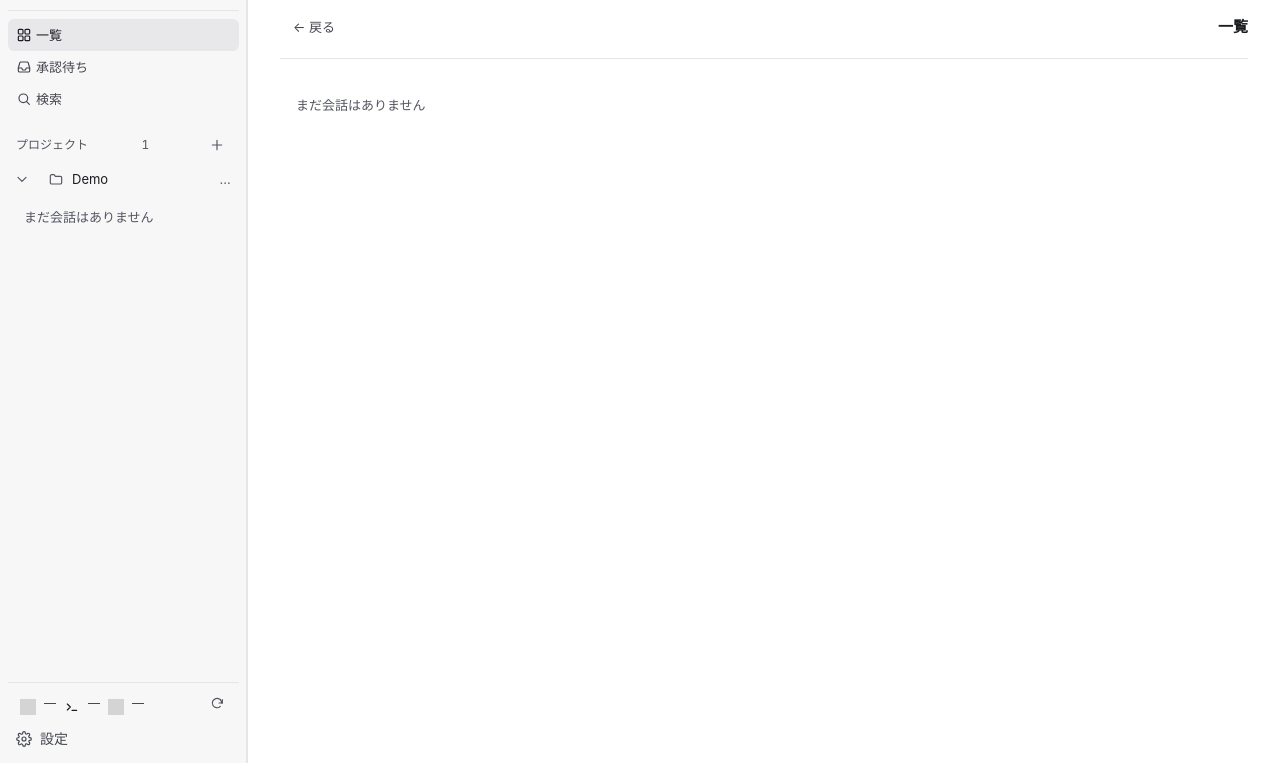
Test: adds a project without starting a conversation in ja
Click the button named "プロジェクトを追加": (217, 145) [203,131,231,159]
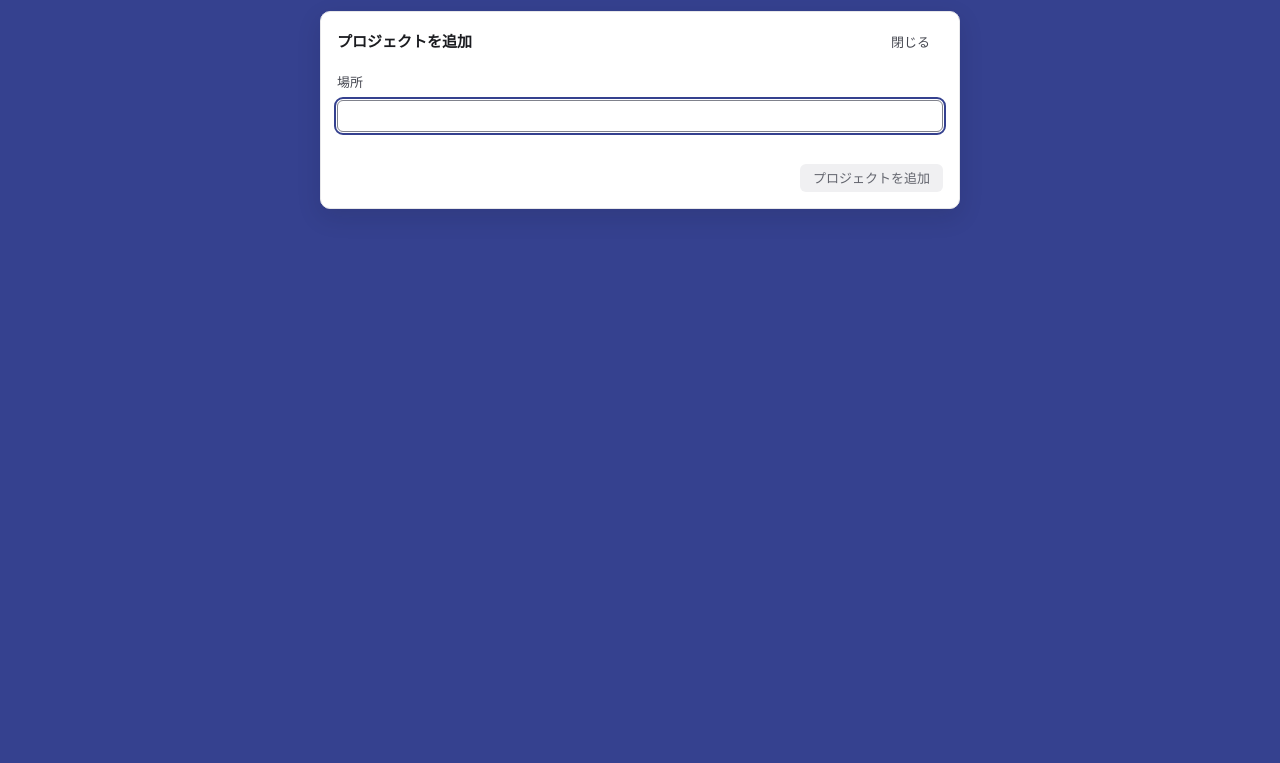
In the field labelled "場所": (640, 116) [337,100,943,132], type "~/demo"
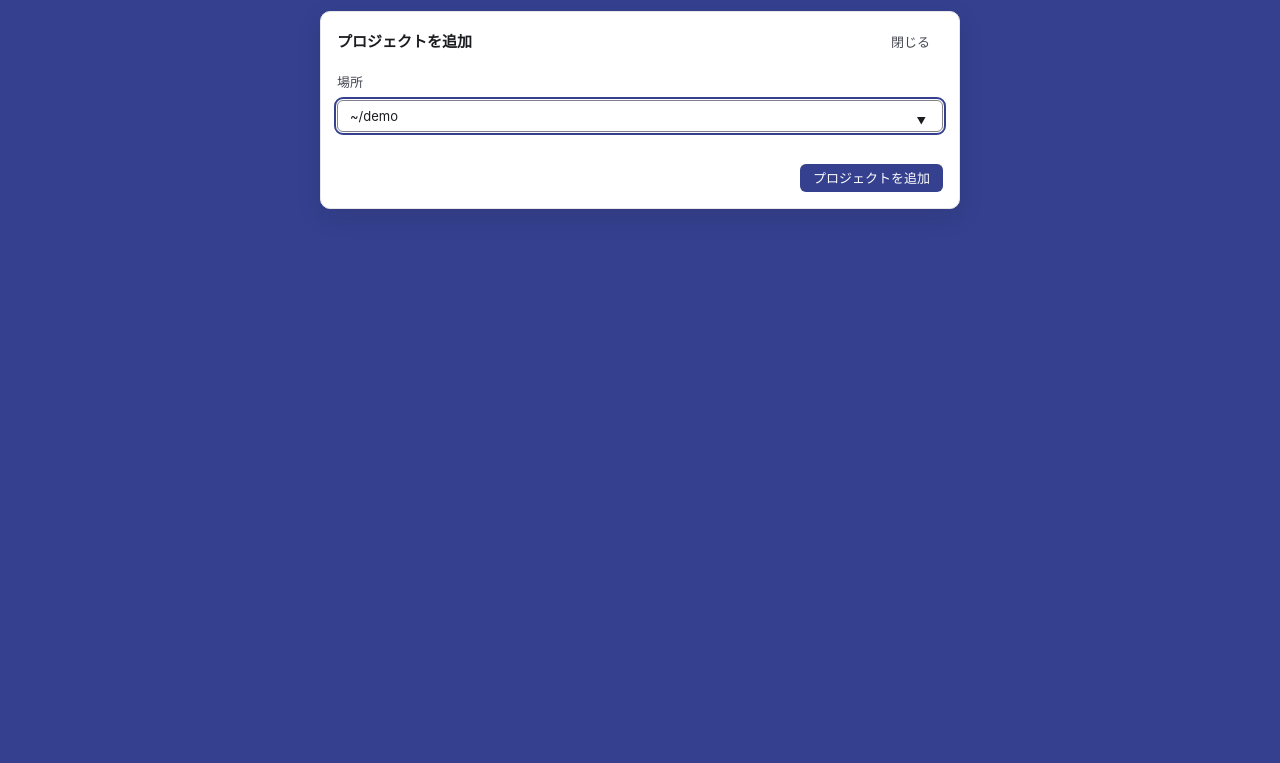
Submit the form, box [337,56,943,192]
(page scrolled)
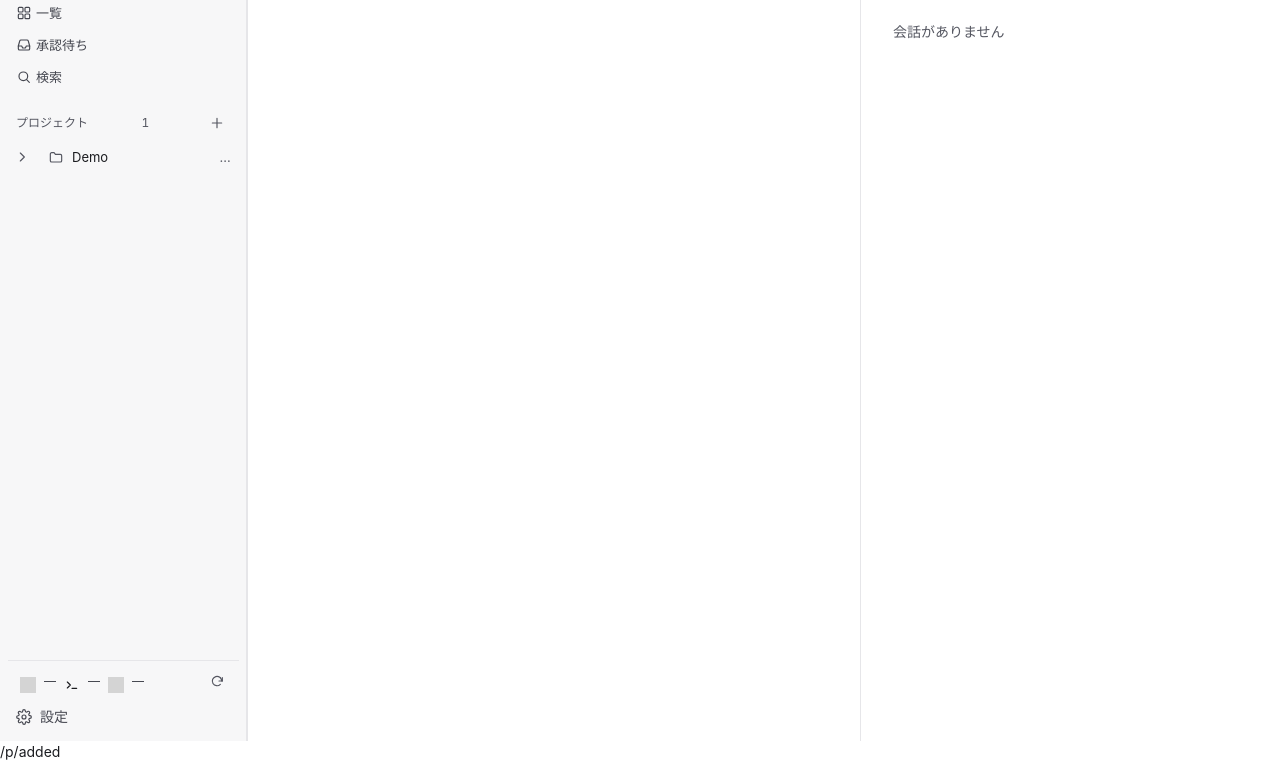
Result: the text with test id "route" reads "/p/added" at [0,743,60,760]
